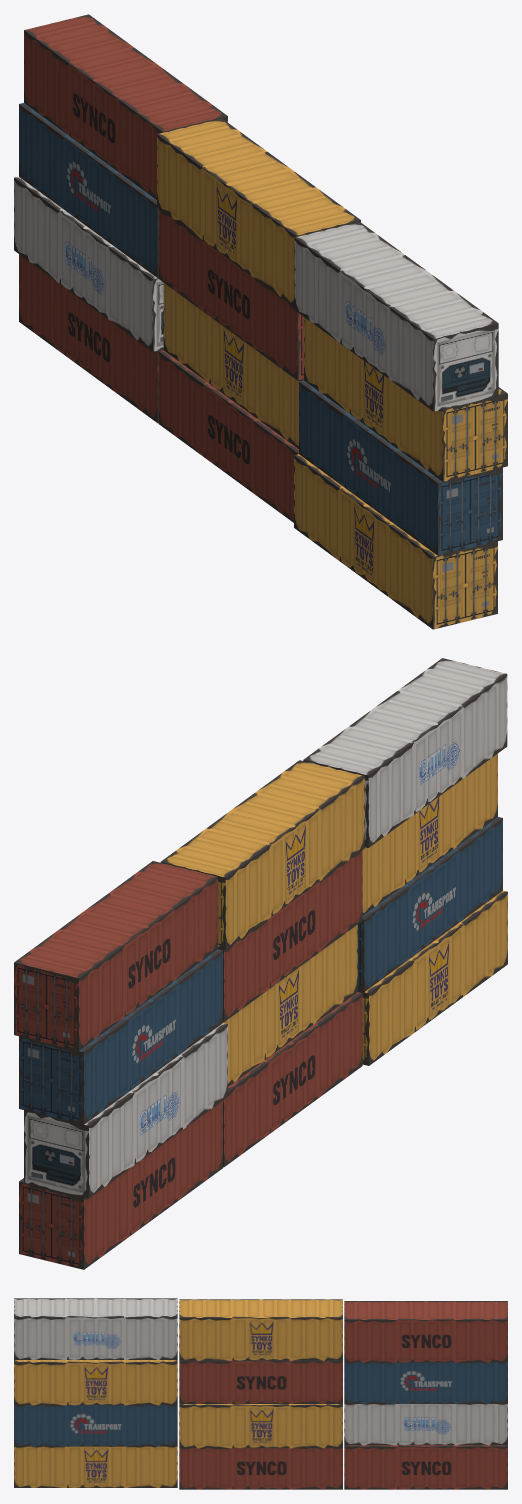
Rendered from SM_Prop_Container_Large_Stack_01.fbx.
The picture shows the model from 3 angles, top to bottom: view 1: azimuth 30°, elevation 25°; view 2: azimuth 150°, elevation 25°; view 3: azimuth 270°, elevation 25°; orthographic projection. The views are drawn at different scales.
Parts seen in each view (by area): view 1: SM_Prop_Container_Large_Stack_01; view 2: SM_Prop_Container_Large_Stack_01; view 3: SM_Prop_Container_Large_Stack_01.
Boxes of the visible parts, x1,y1,x2,y2 form: SM_Prop_Container_Large_Stack_01: [14, 14, 507, 629]; SM_Prop_Container_Large_Stack_01: [14, 658, 507, 1269]; SM_Prop_Container_Large_Stack_01: [14, 1298, 507, 1489].
Bounding box in the file's own units: 280 × 1036 × 2711.
